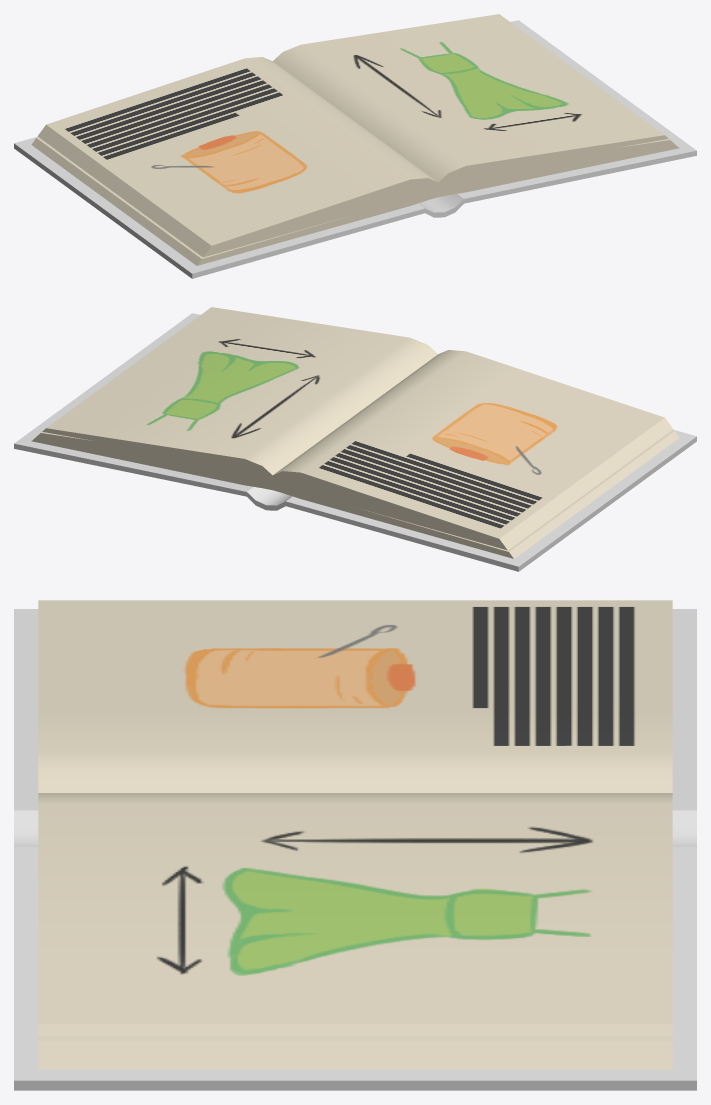
The model's file is book-2-2.fbx.
3 renders of one model, top to bottom at view 1: azimuth 30°, elevation 25°; view 2: azimuth 150°, elevation 25°; view 3: azimuth 270°, elevation 25°, orthographic. The views are drawn at different scales.
Parts seen in each view (by area): view 1: book-2-2; view 2: book-2-2; view 3: book-2-2.
Part boxes in pixels (x1,y1,x2,y2): book-2-2: (14, 14, 696, 278); book-2-2: (14, 307, 696, 571); book-2-2: (14, 600, 696, 1090).
Bounding box in the file's own units: 33.38 × 2.53 × 20.42.
2 materials, 1 textured.
